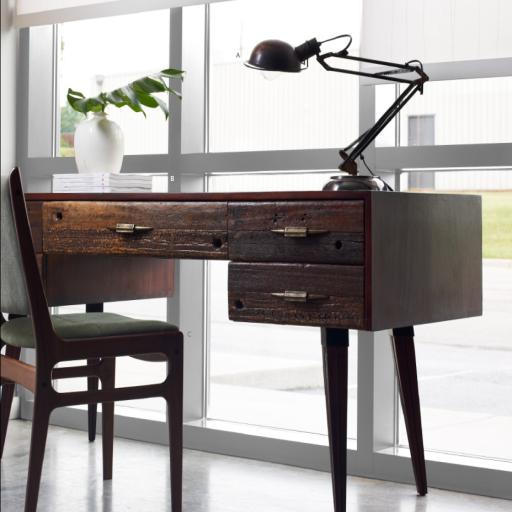chair: (0, 166, 183, 512)
desk: (21, 188, 484, 512)
